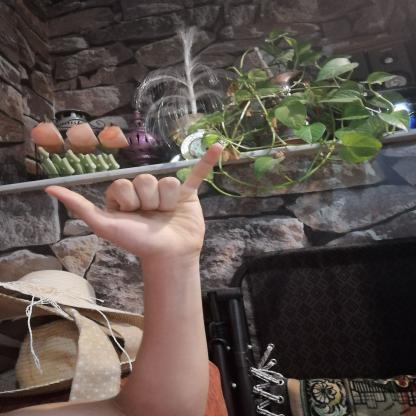YA: (32, 134, 234, 269)
